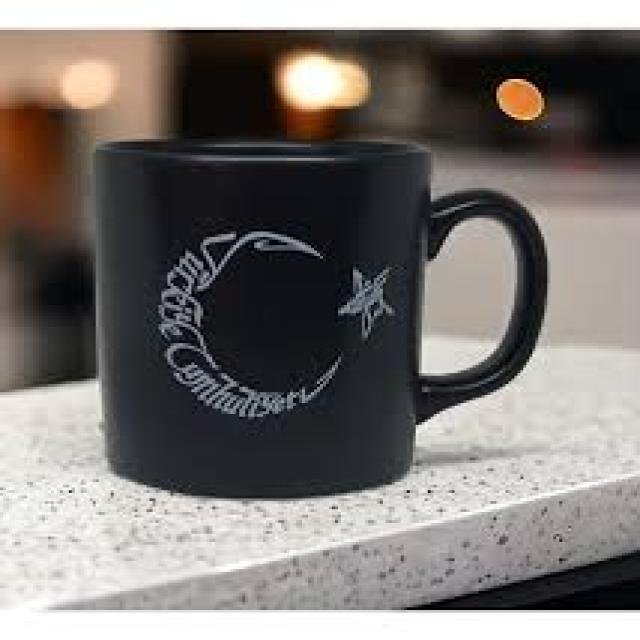taza: (92, 135, 550, 500)
